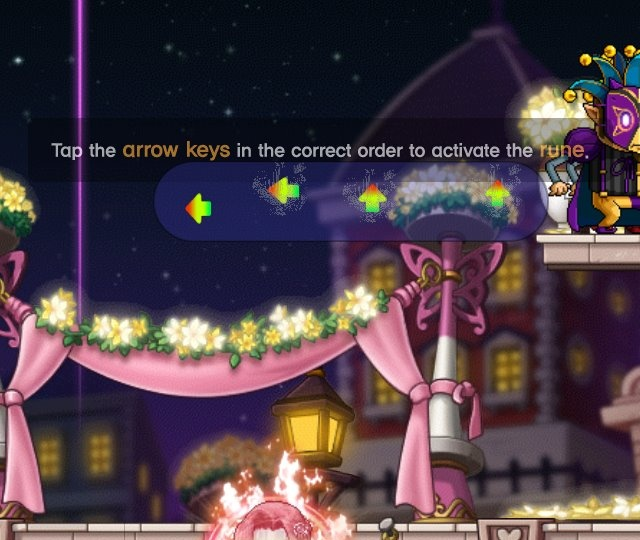left: (263, 173, 306, 212), (180, 190, 220, 231)
up: (477, 175, 518, 216), (351, 177, 393, 217)
